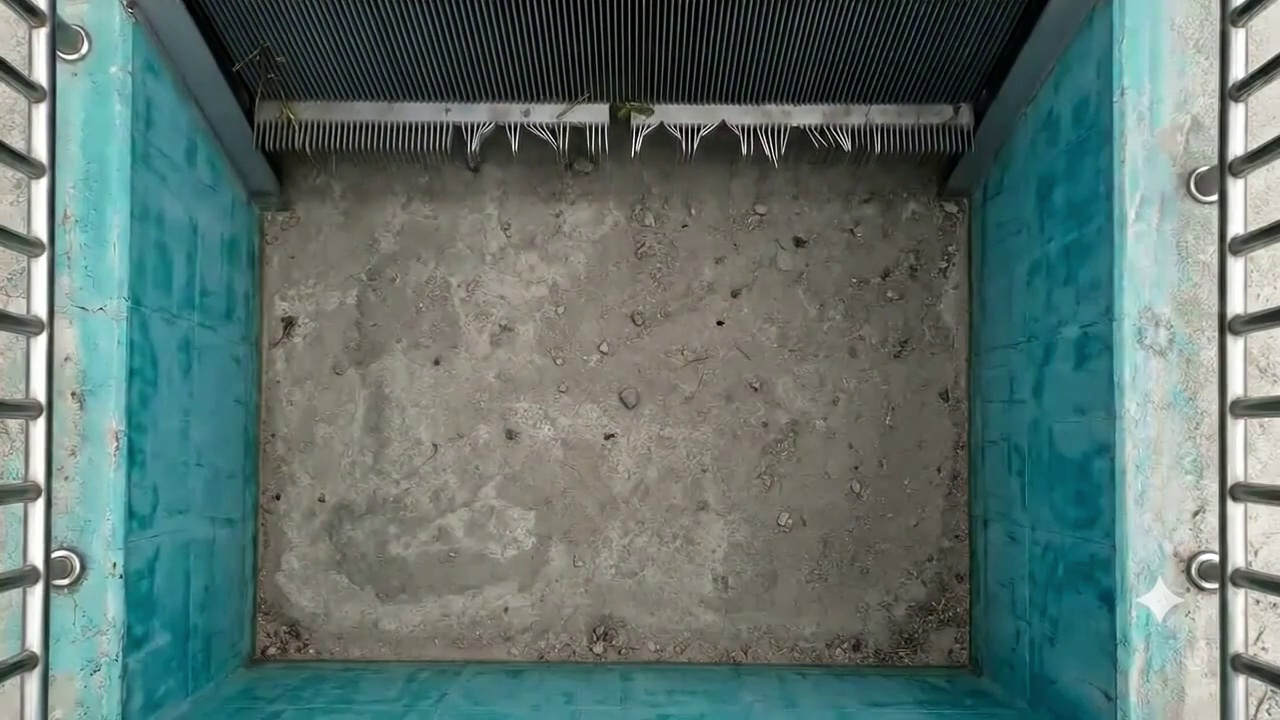damage: (439, 114, 890, 168)
